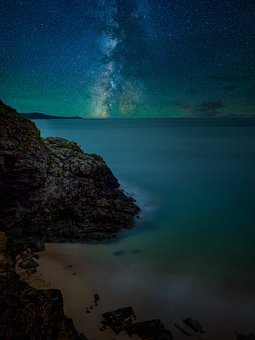sea: (8, 113, 255, 305)
sky: (5, 3, 248, 116)
